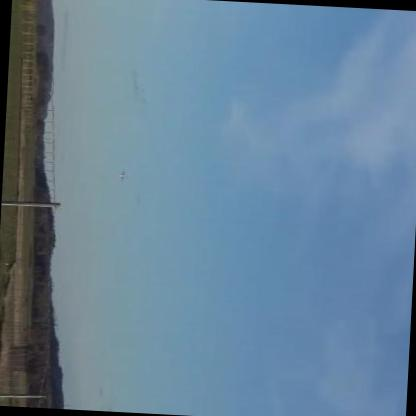plane: (116, 169, 125, 181)
